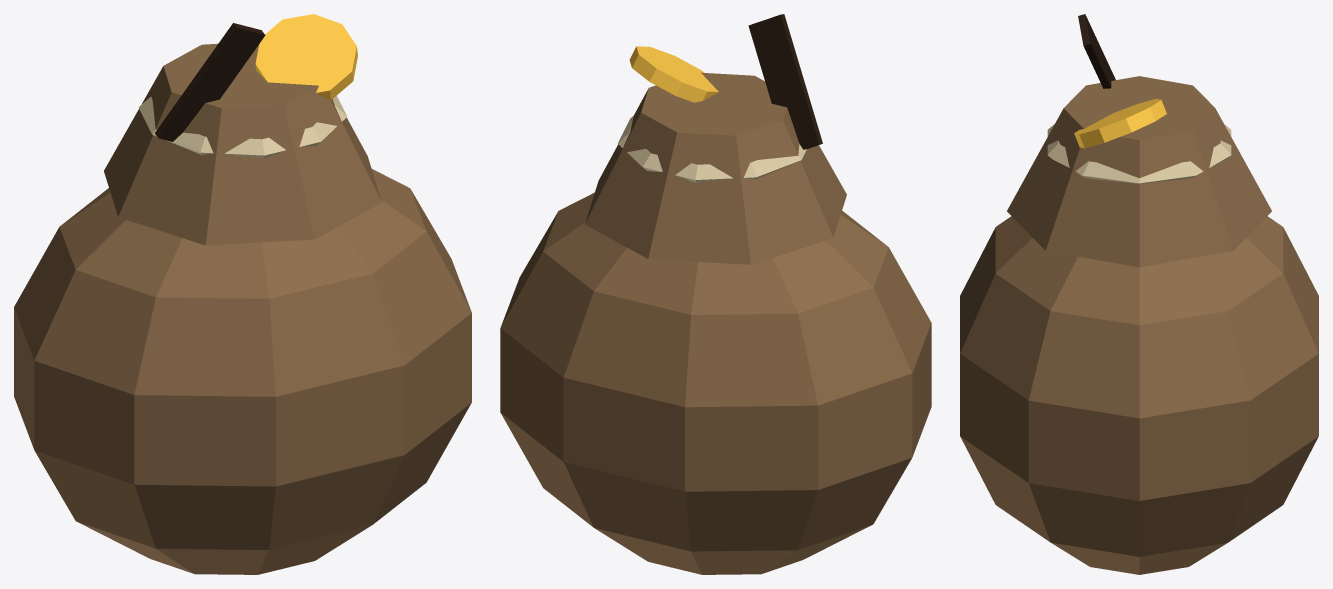
The model's file is watch_bag.glb.
3 views of the same model, side by side, from view 1: azimuth 30°, elevation 25°; view 2: azimuth 150°, elevation 25°; view 3: azimuth 270°, elevation 25° (orthographic). The views are drawn at different scales.
Parts seen in each view (by area): view 1: bag_bag_cloth, watches_watch_gold, watches_watch_strap, cord_bag_cord; view 2: bag_bag_cloth, watches_watch_strap, watches_watch_gold, cord_bag_cord; view 3: bag_bag_cloth, cord_bag_cord, watches_watch_gold, watches_watch_strap.
Part boxes in pixels (x1,y1,x2,y2): bag_bag_cloth: (14,43,471,574); watches_watch_gold: (255,14,357,100); watches_watch_strap: (155,23,265,141); cord_bag_cord: (138,95,347,158); bag_bag_cloth: (500,72,931,574); watches_watch_strap: (748,14,822,149); watches_watch_gold: (629,46,718,102); cord_bag_cord: (618,116,806,182); bag_bag_cloth: (960,76,1318,574); cord_bag_cord: (1047,124,1231,183); watches_watch_gold: (1074,98,1166,148); watches_watch_strap: (1078,14,1115,88).
Bounding box in the file's own units: 0.234 × 0.3025 × 0.1892.
